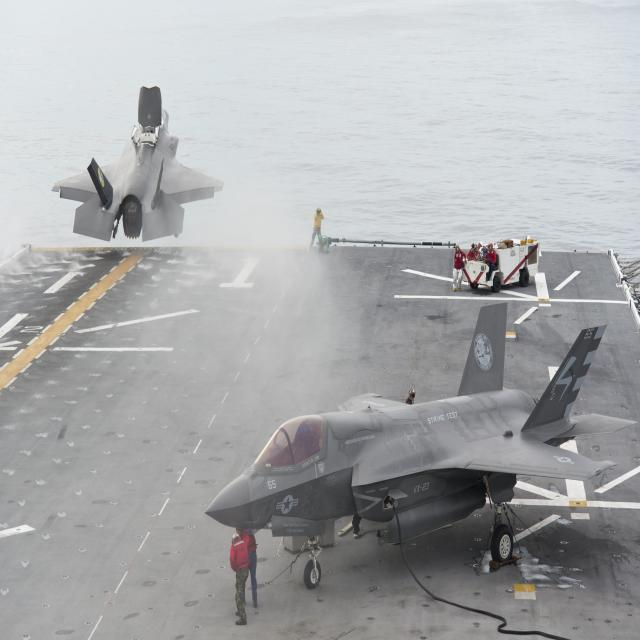MIL_Plane: (204, 301, 638, 590), (51, 86, 224, 242)
